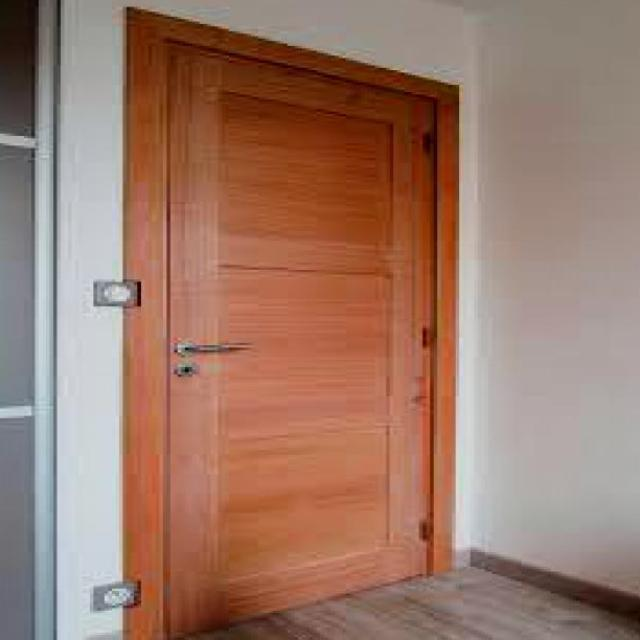door: (122, 7, 456, 637)
